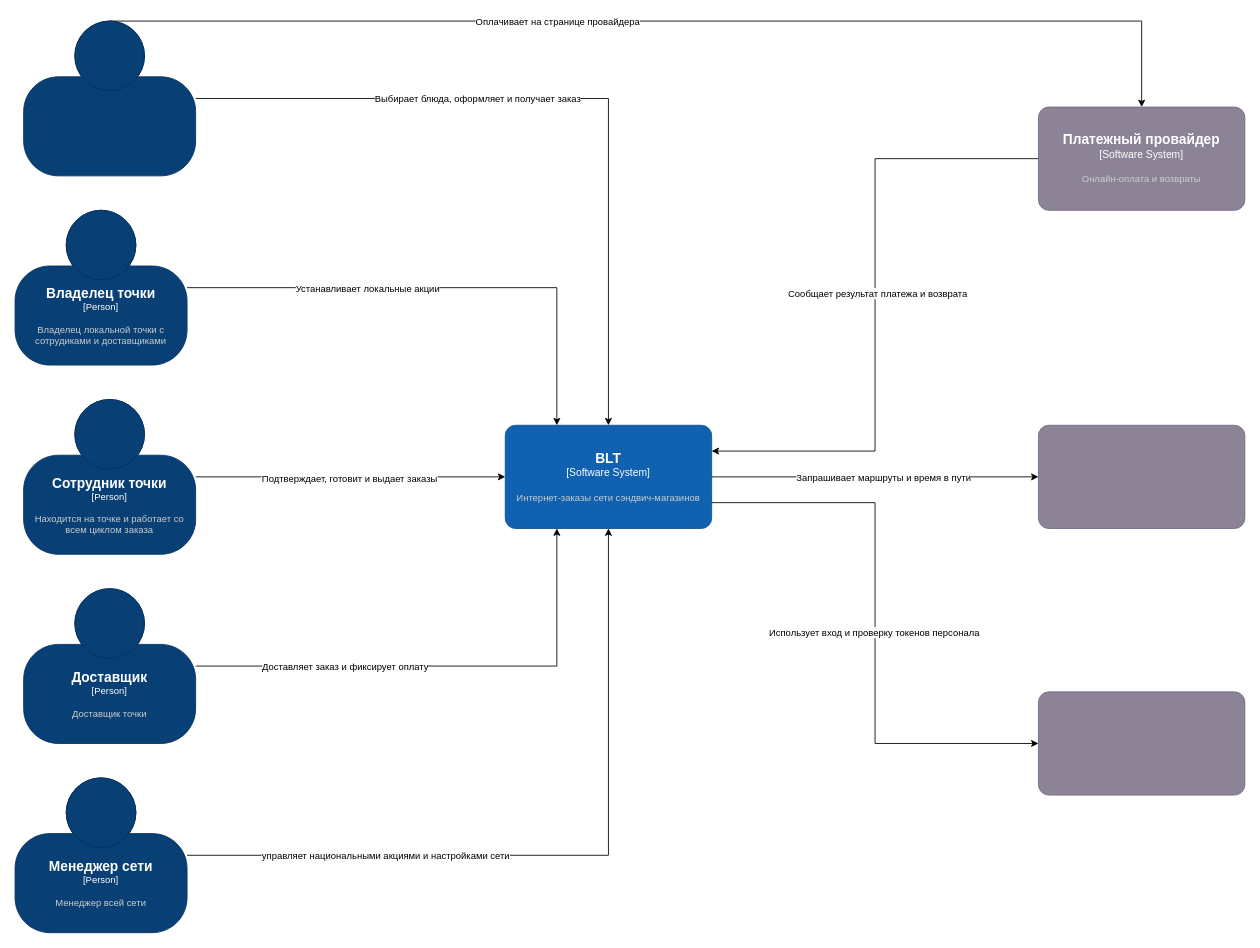
Some shapes in this 1260 by 948 pixel diagram are drawn without their labels. Here are the shapes that lost their labels. From the top down, the box of each, then its label:
(23, 20, 196, 176): Покупатель [Person] Клиент сэндвич-магазинов
(1038, 424, 1245, 528): Картографические провайдеры A и B [Software System] Маршруты и пробки
(1038, 691, 1245, 795): Identity Provider [Software System] Идентификация персонала
